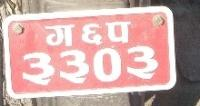0: (91, 46, 124, 82)
3: (20, 49, 56, 86), (56, 48, 91, 85), (125, 44, 158, 82)
6: (81, 19, 104, 46)
ga: (43, 22, 76, 48)
license-plate: (0, 10, 185, 99)
pa: (105, 20, 133, 45)
